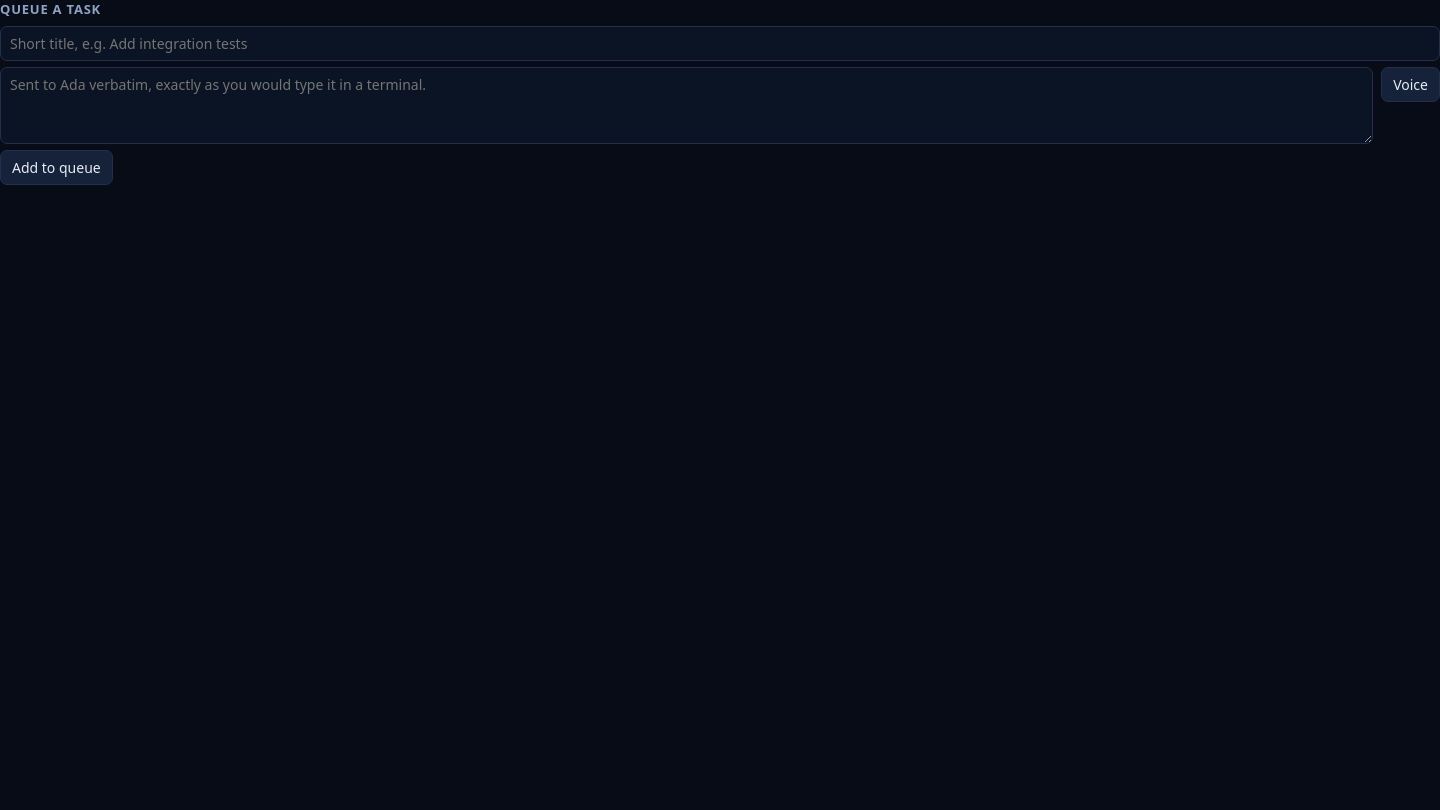
task voice dictation › fills the instruction from a confirmed recording without a live session
This screenshot has width=1440, height=810.
Click the button with aria-label "Start task instruction" at (1411, 84), box [1381,66,1439,102]
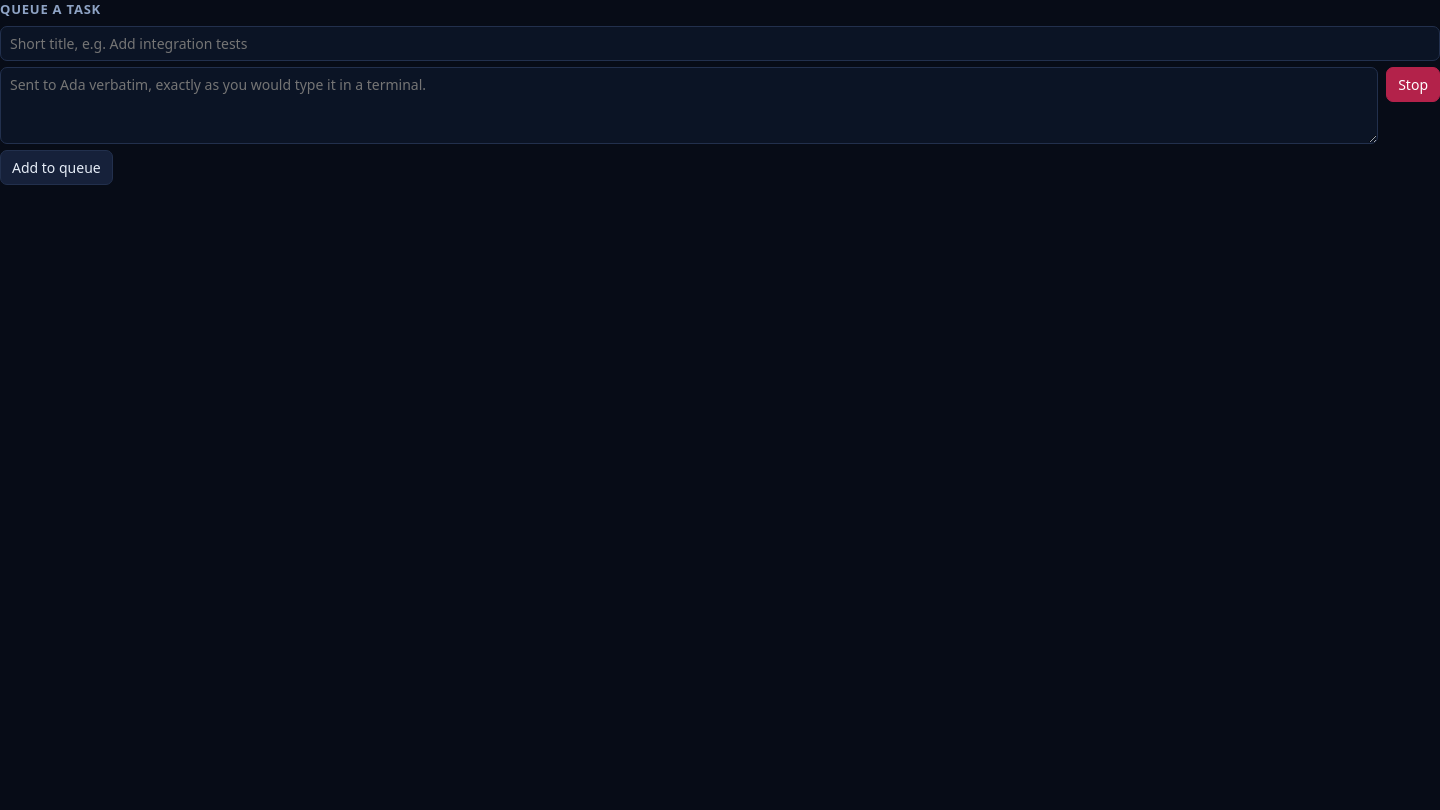
Click the button with aria-label "Stop recording" at (1413, 84), box [1386,66,1439,102]
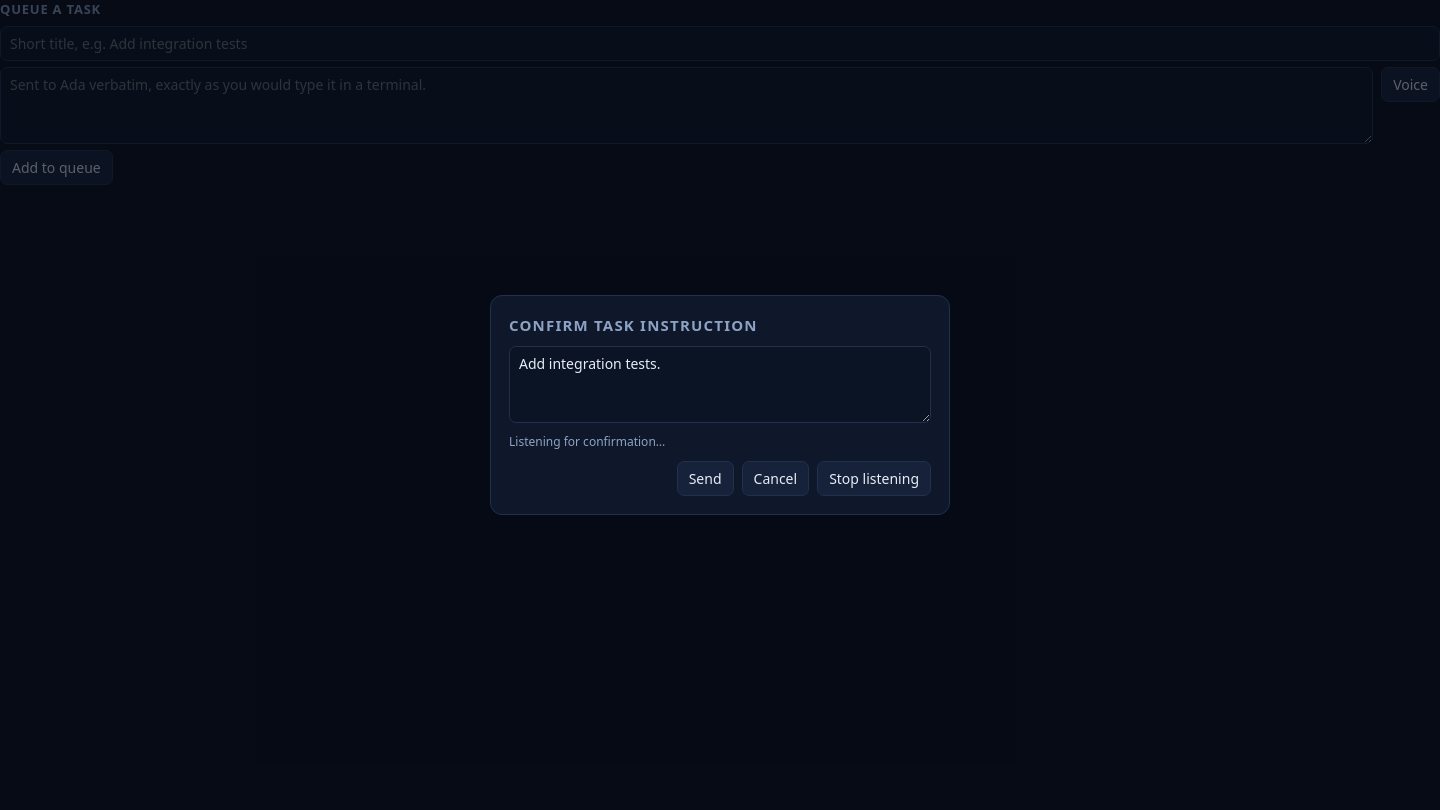
Expected: the text box named "Task instruction" is empty, [0,66,1373,144]
Result: the dialog "Confirm task instruction" is shown at [490,295,950,515]
Result: the button "Stop listening" is shown
Click the button "Stop listening" at (874, 479), box [817,461,931,496]
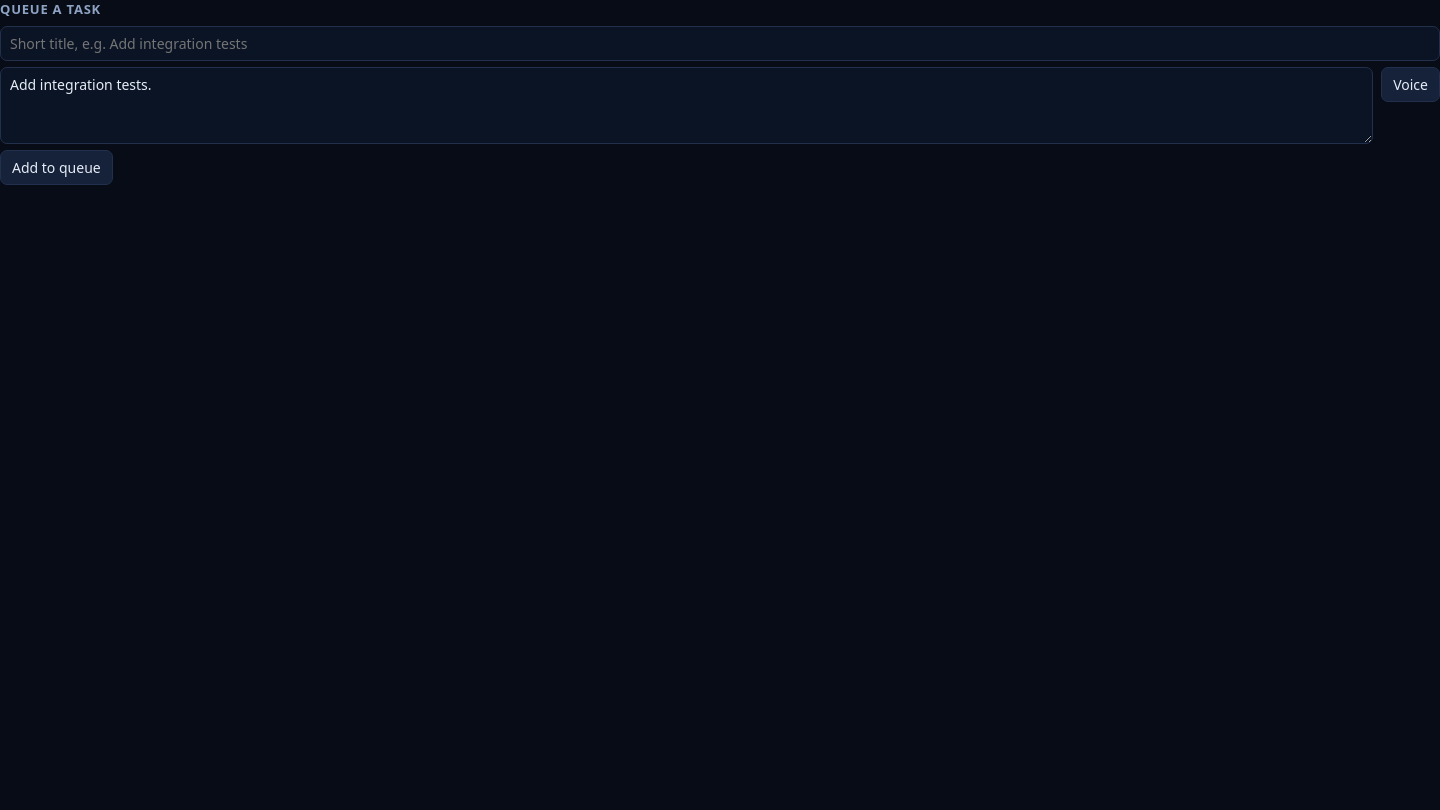
Result: the text box named "Task instruction" holds "Add integration tests." at [0,66,1373,144]
